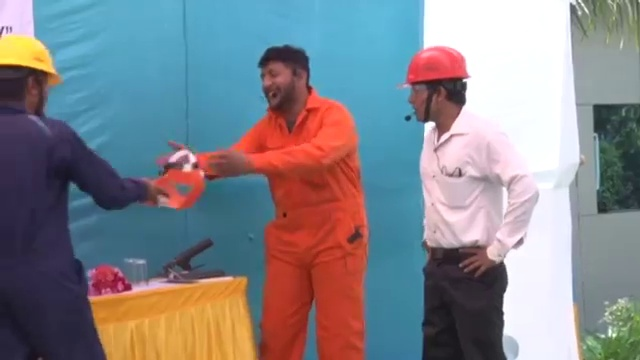helmet: (395, 42, 472, 88), (1, 33, 63, 90)
helmet_off: (257, 44, 310, 108)
helmet_on: (394, 41, 472, 128), (1, 31, 63, 121)
person: (160, 41, 368, 360), (393, 39, 543, 360), (1, 29, 146, 360)
